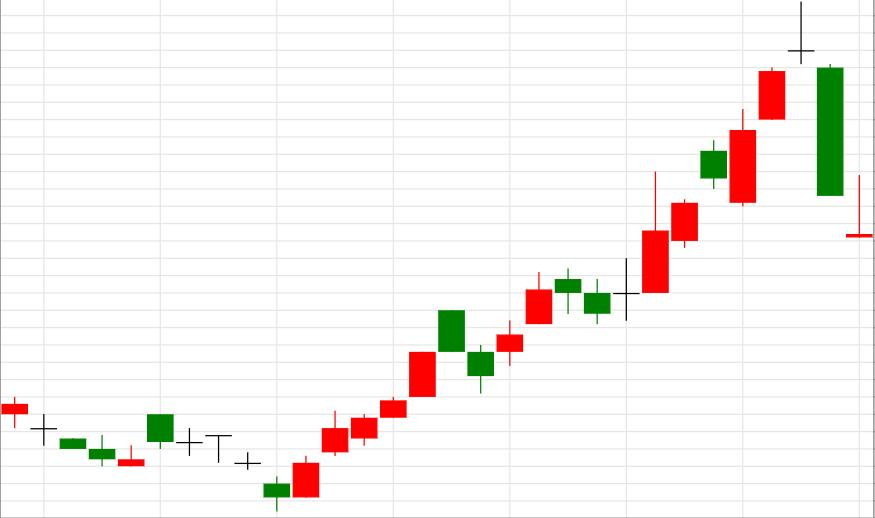evening_star_fall: (584, 2, 844, 324)
